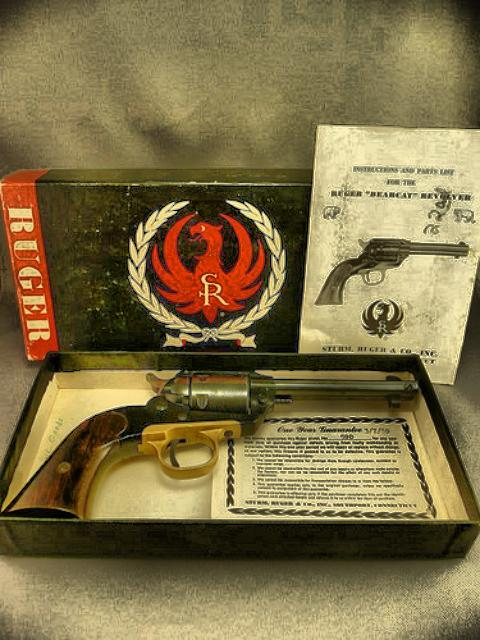pistol: (0, 366, 418, 514), (310, 234, 468, 306)
